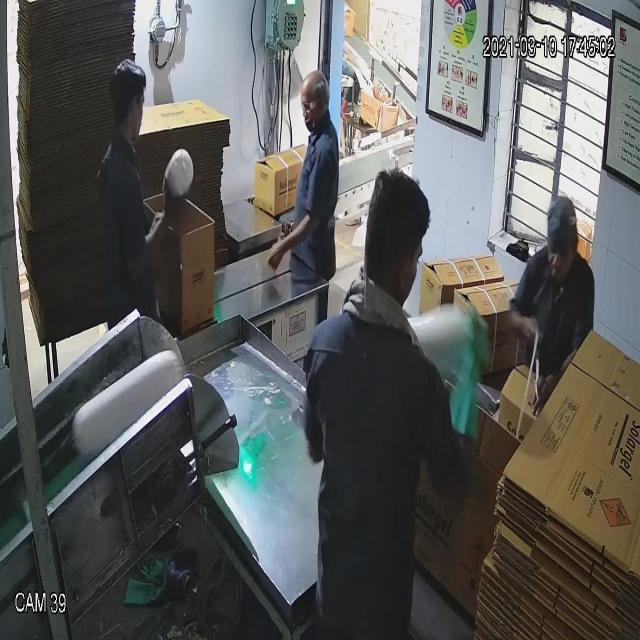No_Gloves: (55, 75, 466, 374)
